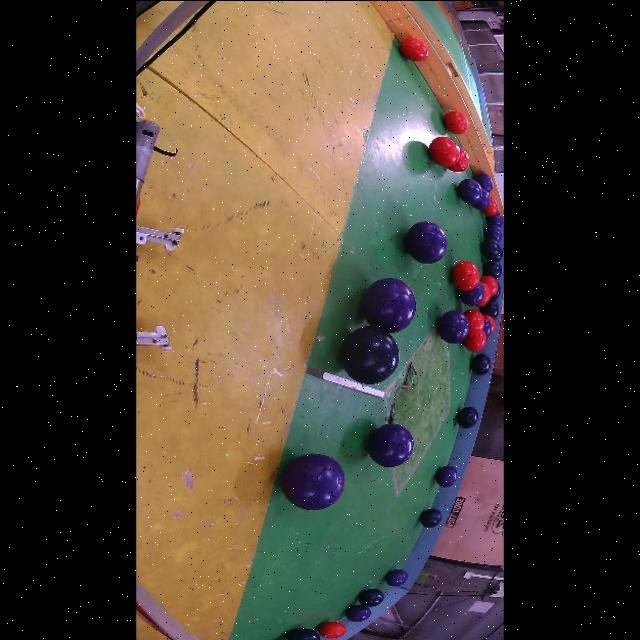B: (341, 325, 399, 384), (479, 297, 504, 318), (358, 587, 384, 606), (456, 405, 478, 427), (287, 626, 320, 640), (471, 353, 491, 375), (419, 508, 442, 527), (484, 260, 502, 278)
P: (281, 453, 345, 509), (362, 278, 416, 331), (368, 422, 414, 467), (405, 220, 448, 262), (437, 310, 469, 343), (458, 281, 485, 306), (457, 178, 482, 203), (295, 473, 318, 496), (436, 464, 458, 486), (345, 603, 371, 621), (471, 353, 491, 375), (472, 188, 491, 210), (385, 568, 408, 586), (474, 172, 494, 192), (481, 237, 500, 258), (483, 224, 502, 241), (486, 211, 504, 226), (483, 316, 492, 336)
R: (428, 136, 460, 166), (451, 260, 479, 290), (400, 37, 428, 60), (463, 308, 485, 335), (444, 110, 469, 133), (448, 147, 469, 172), (318, 620, 345, 638), (463, 330, 487, 350), (476, 281, 491, 306), (481, 275, 499, 295), (483, 196, 499, 215), (483, 313, 496, 333)
